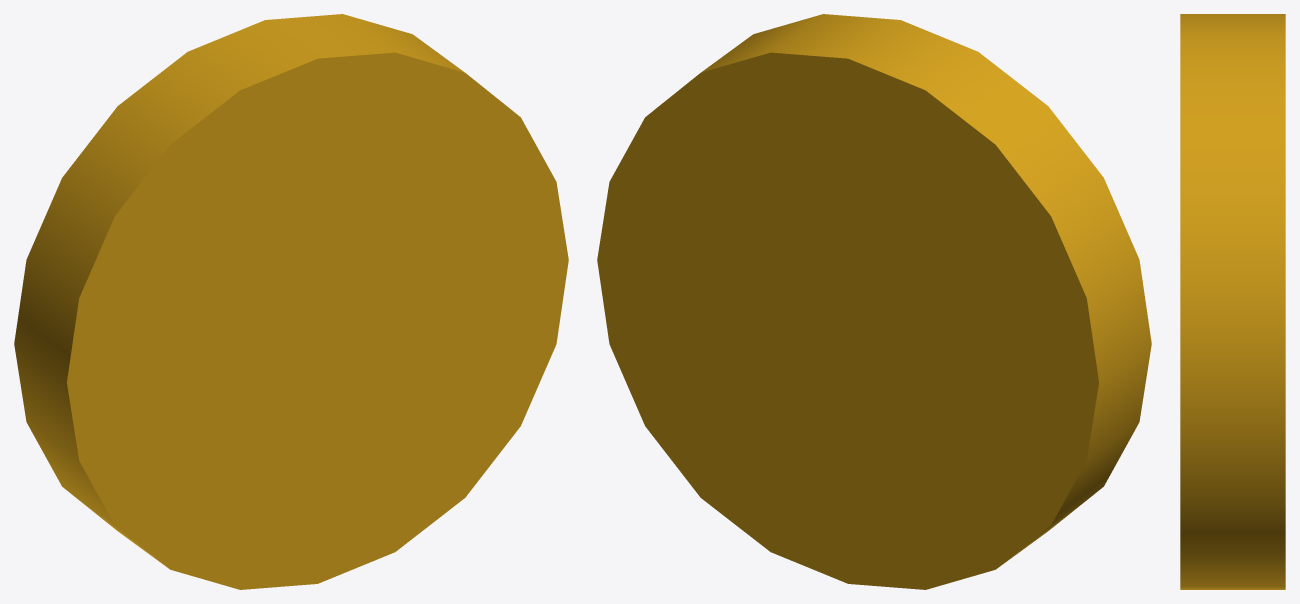
File: coin_collectible.gltf
3 renders of one model, left to right at view 1: azimuth 30°, elevation 25°; view 2: azimuth 150°, elevation 25°; view 3: azimuth 270°, elevation 25°, orthographic.
Size of the model in its own units: 0.44 by 0.44 by 0.08.
